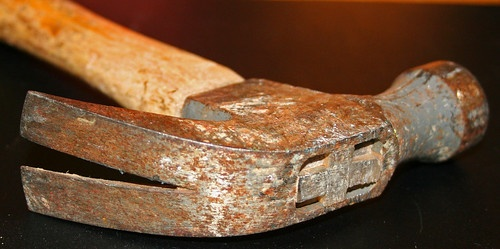hammer: (4, 1, 490, 239)
